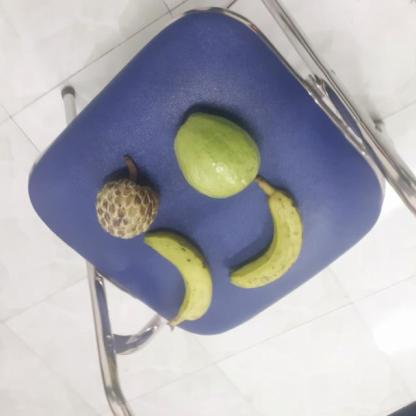annona: (94, 165, 161, 240)
banana: (228, 187, 308, 289), (144, 230, 218, 325)
guava: (174, 110, 265, 198)
